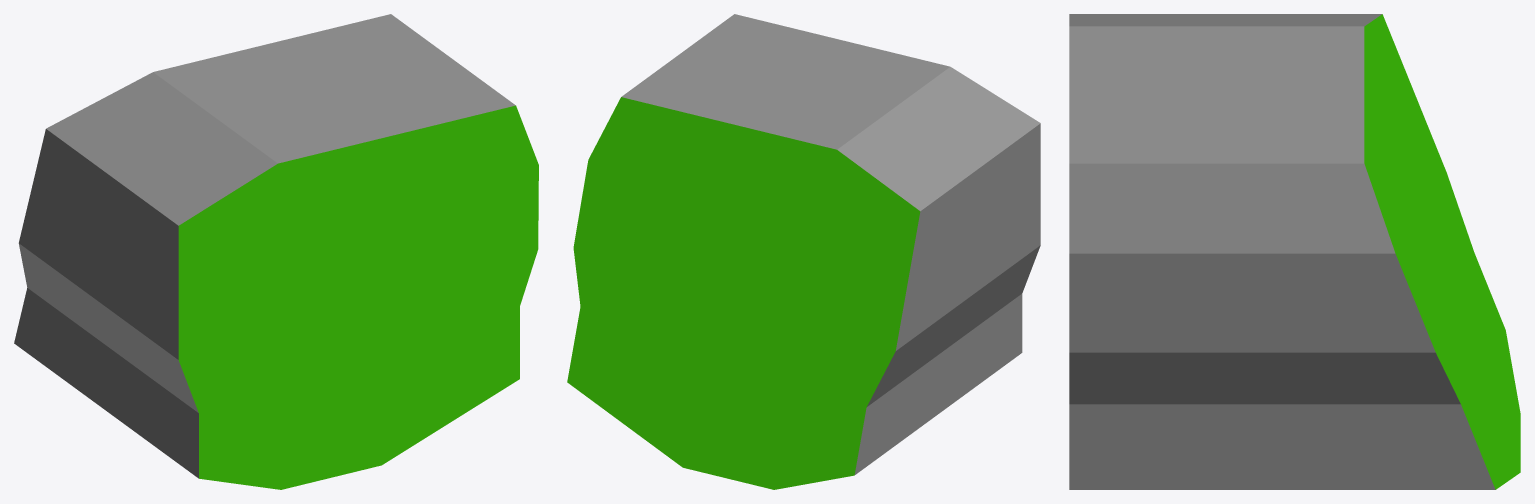
The model's file is SMB_groundM_A.fbx.
The picture shows the model from 3 angles, left to right: view 1: azimuth 30°, elevation 25°; view 2: azimuth 150°, elevation 25°; view 3: azimuth 270°, elevation 25°; orthographic projection. The views are drawn at different scales.
Parts seen in each view (by area): view 1: SMB_groundM_A; view 2: SMB_groundM_A; view 3: SMB_groundM_A.
Boxes of the visible parts, box(x1,y1,x2,y2) form: SMB_groundM_A: box(14, 14, 538, 489); SMB_groundM_A: box(567, 14, 1040, 489); SMB_groundM_A: box(1069, 14, 1520, 489).
Bounding box in the file's own units: 4660 × 4043 × 4283.
